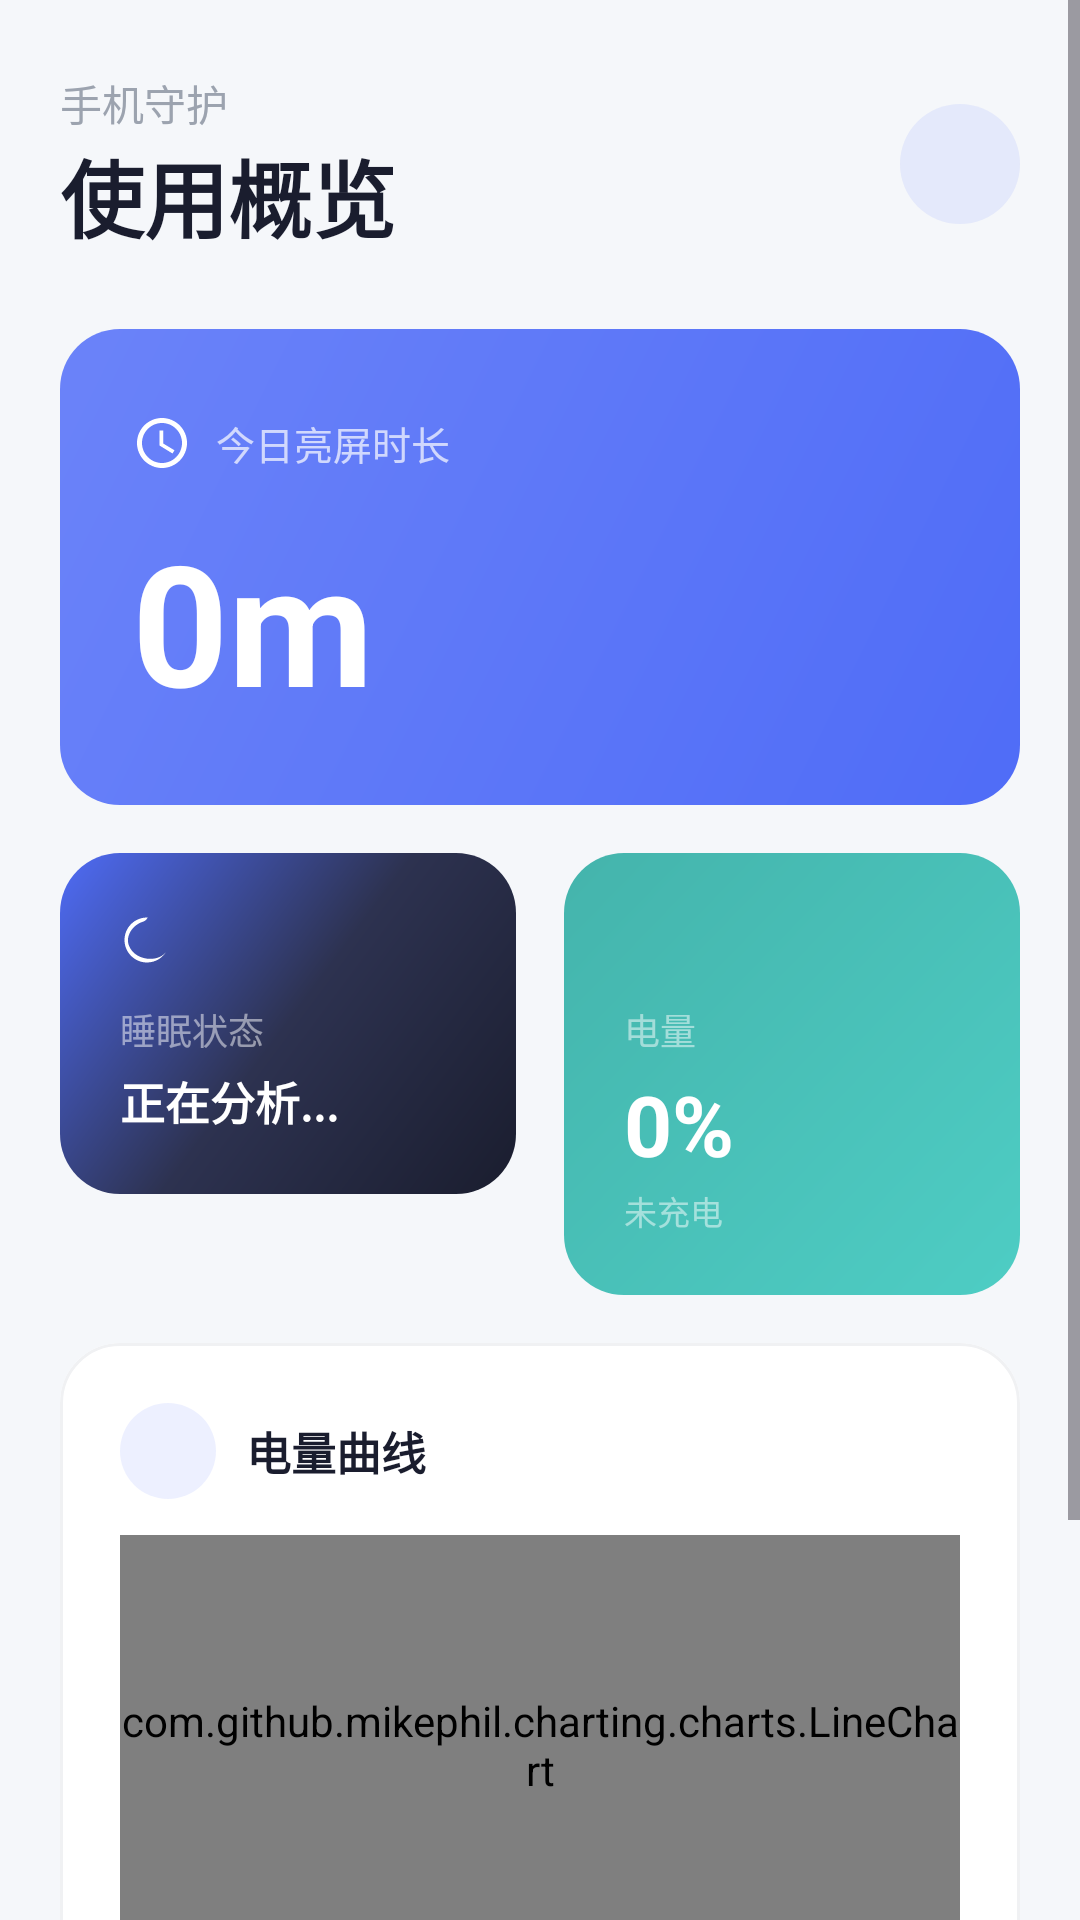

Icons on this 1080 x 1920 Android screen, each with its box as (x1, y1, x2, y2):
moon: (124, 917, 165, 963)
time: (137, 418, 187, 468)
